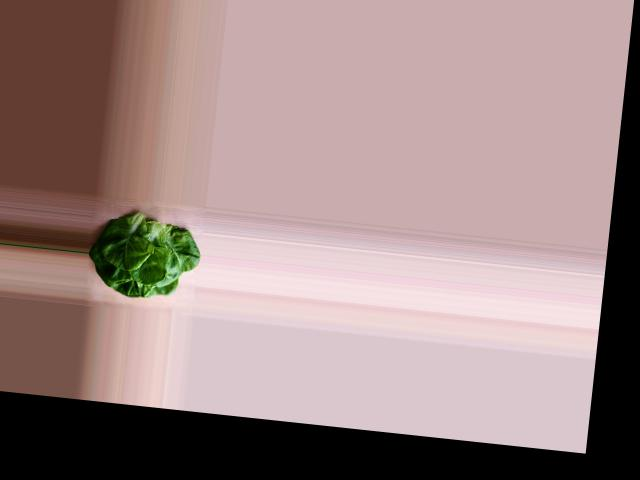lettuce: (87, 211, 200, 303)
